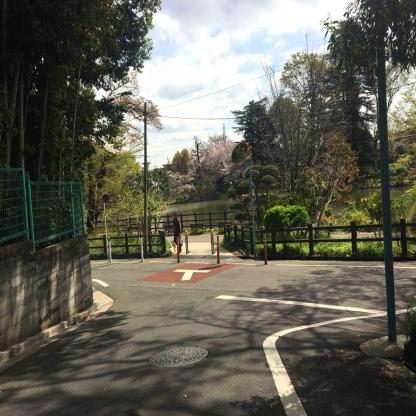Someiyoshino: (196, 134, 249, 183), (162, 168, 200, 202)
